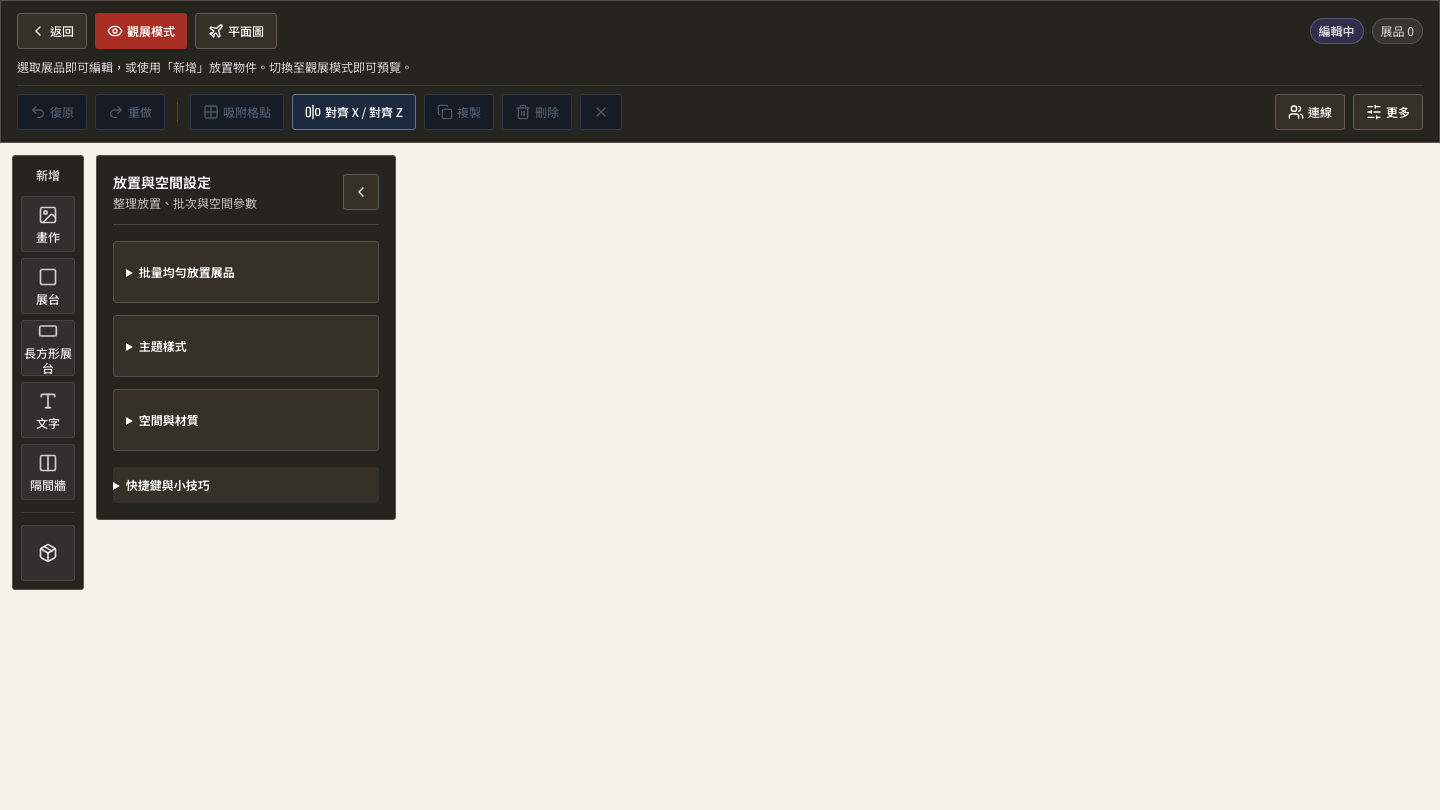
Scenario: EditUI AI builder › cancels an autonomous builder run without reporting a failure
The image size is (1440, 810).
Click the button "更多" at (1388, 112), box [1353,94,1423,130]
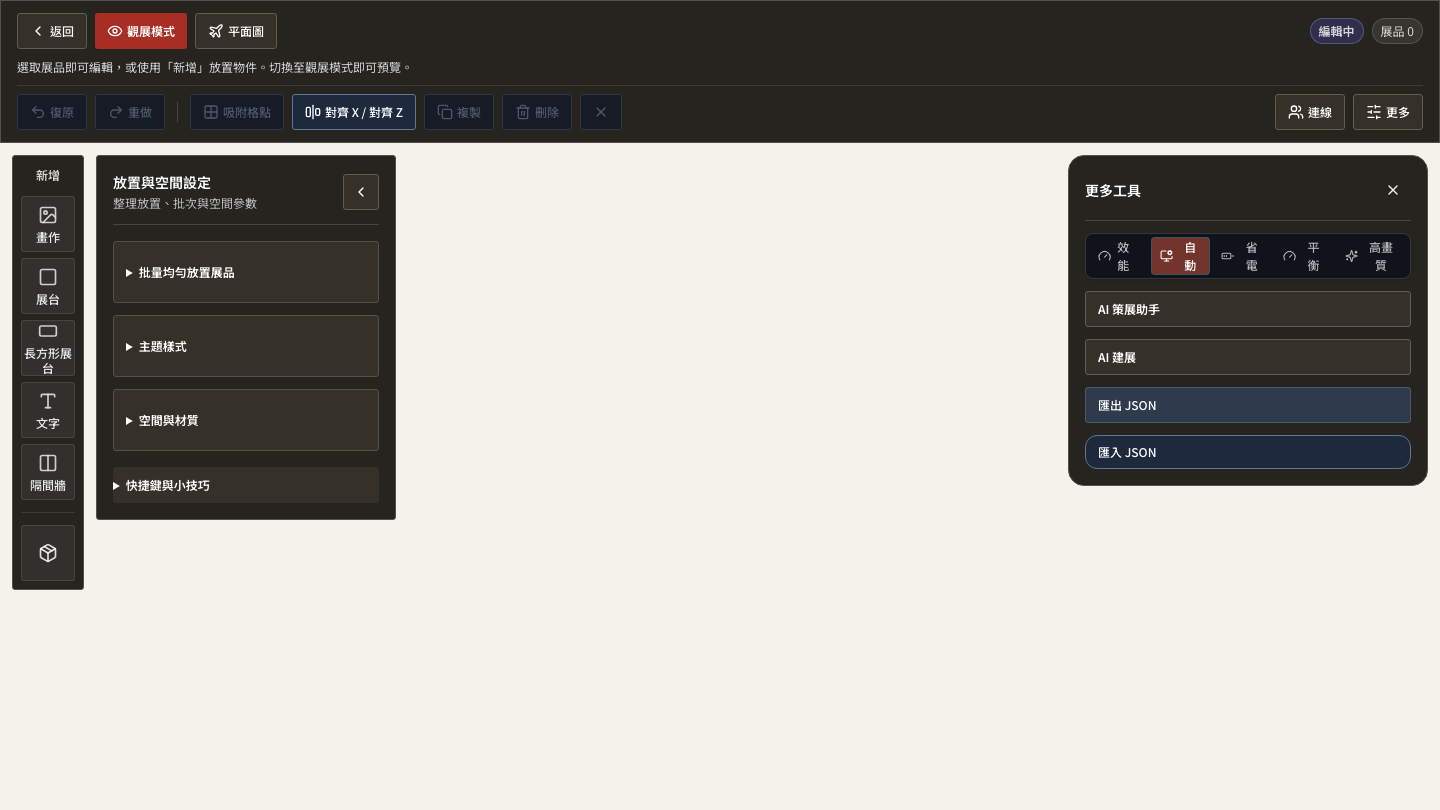
Click the button "AI 建展" at (1117, 356), box [1085,339,1411,375]
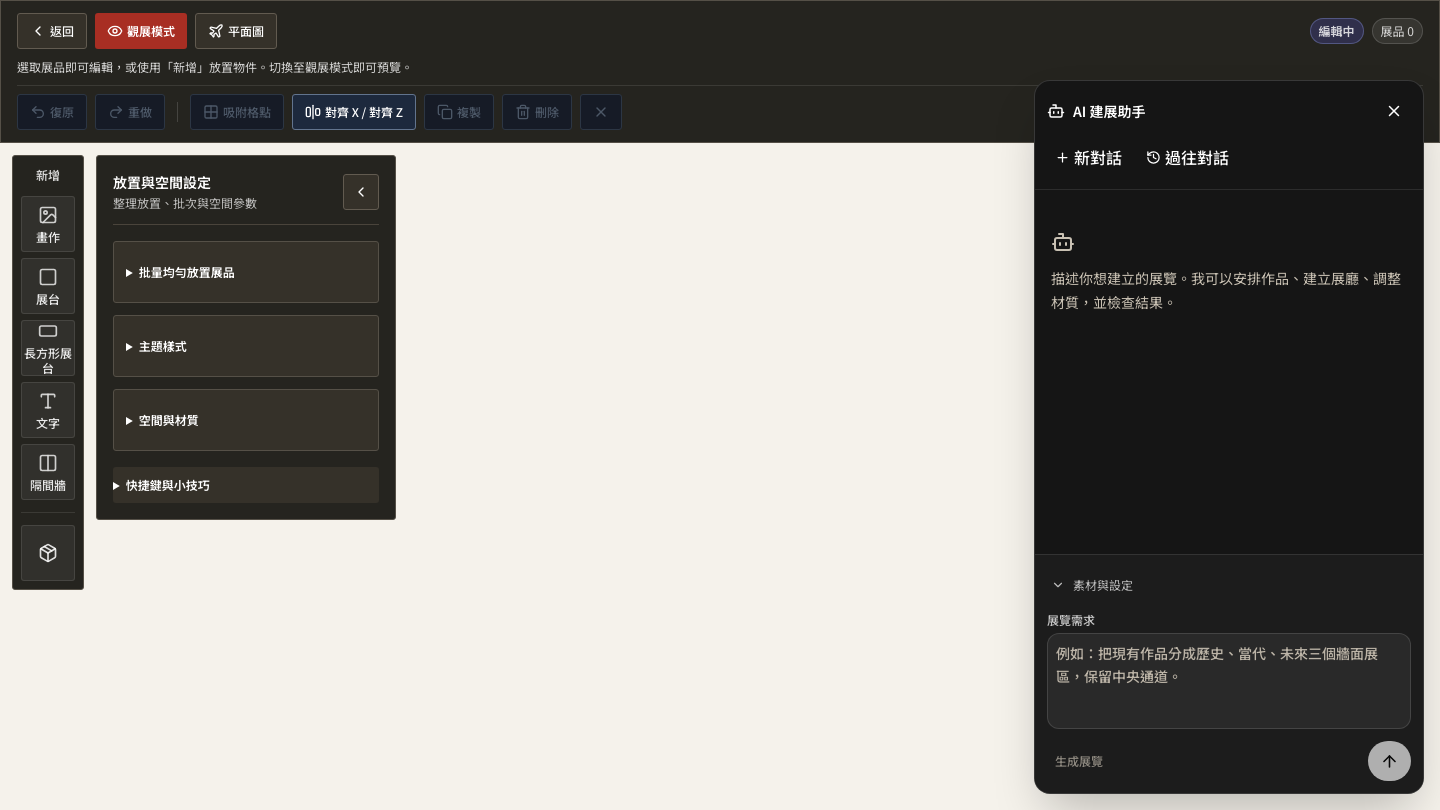
Type "建立可取消的展覽" into the text box labelled "展覽需求" at (1229, 681), box [1047,633,1411,729]
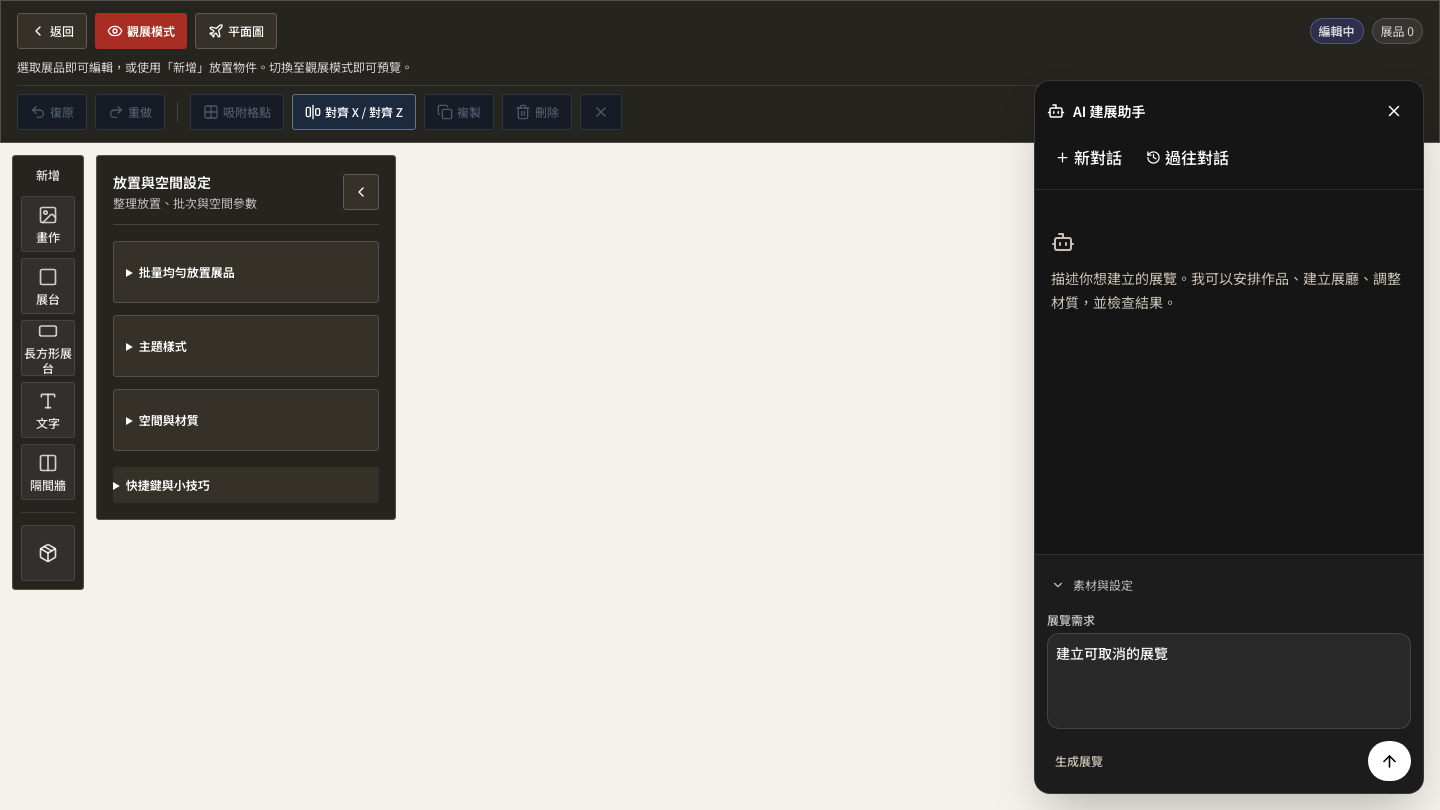
Click the button named "傳送訊息" at (1390, 761), box [1368,741,1411,781]
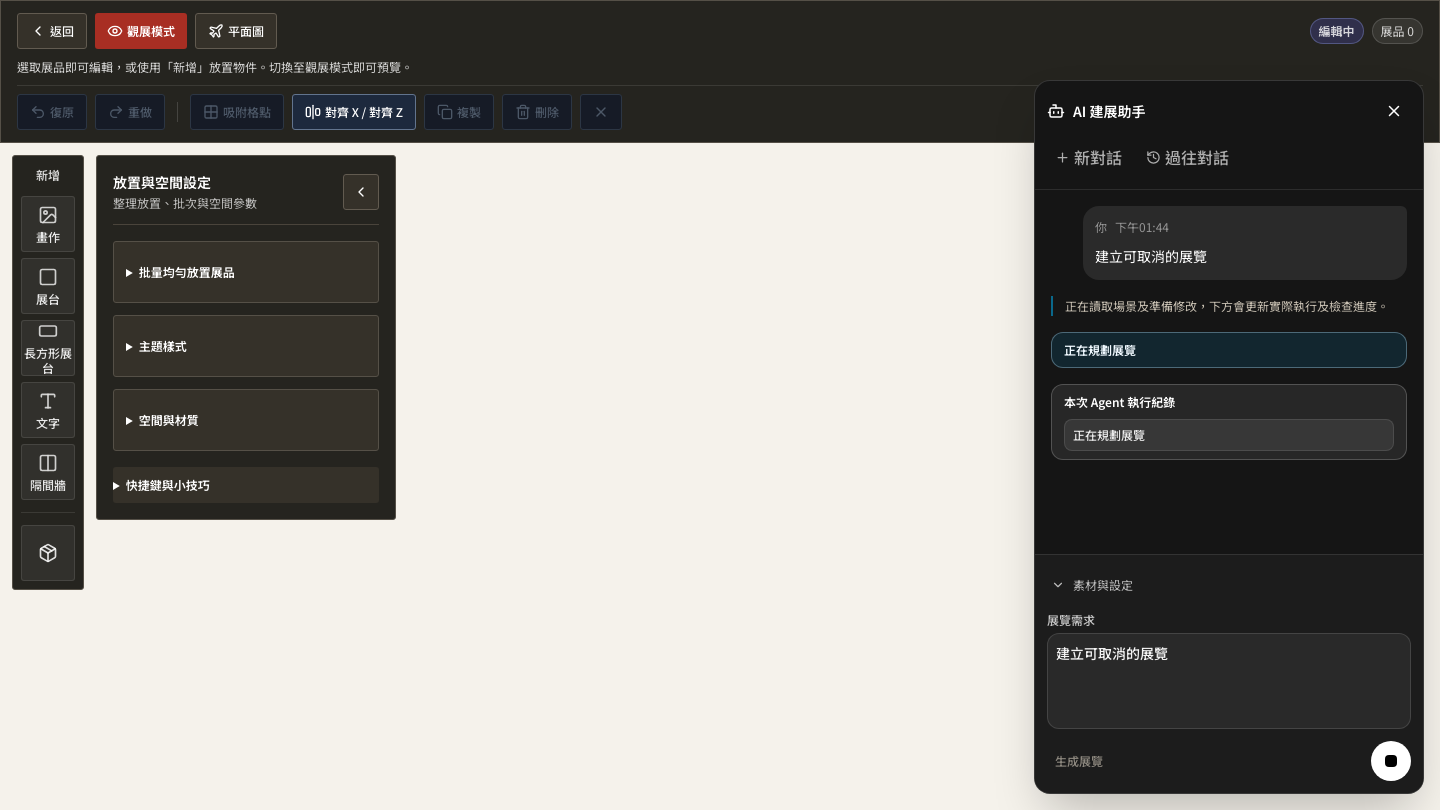
Click the button named "取消 Agent" at (1391, 761), box [1371,741,1411,781]
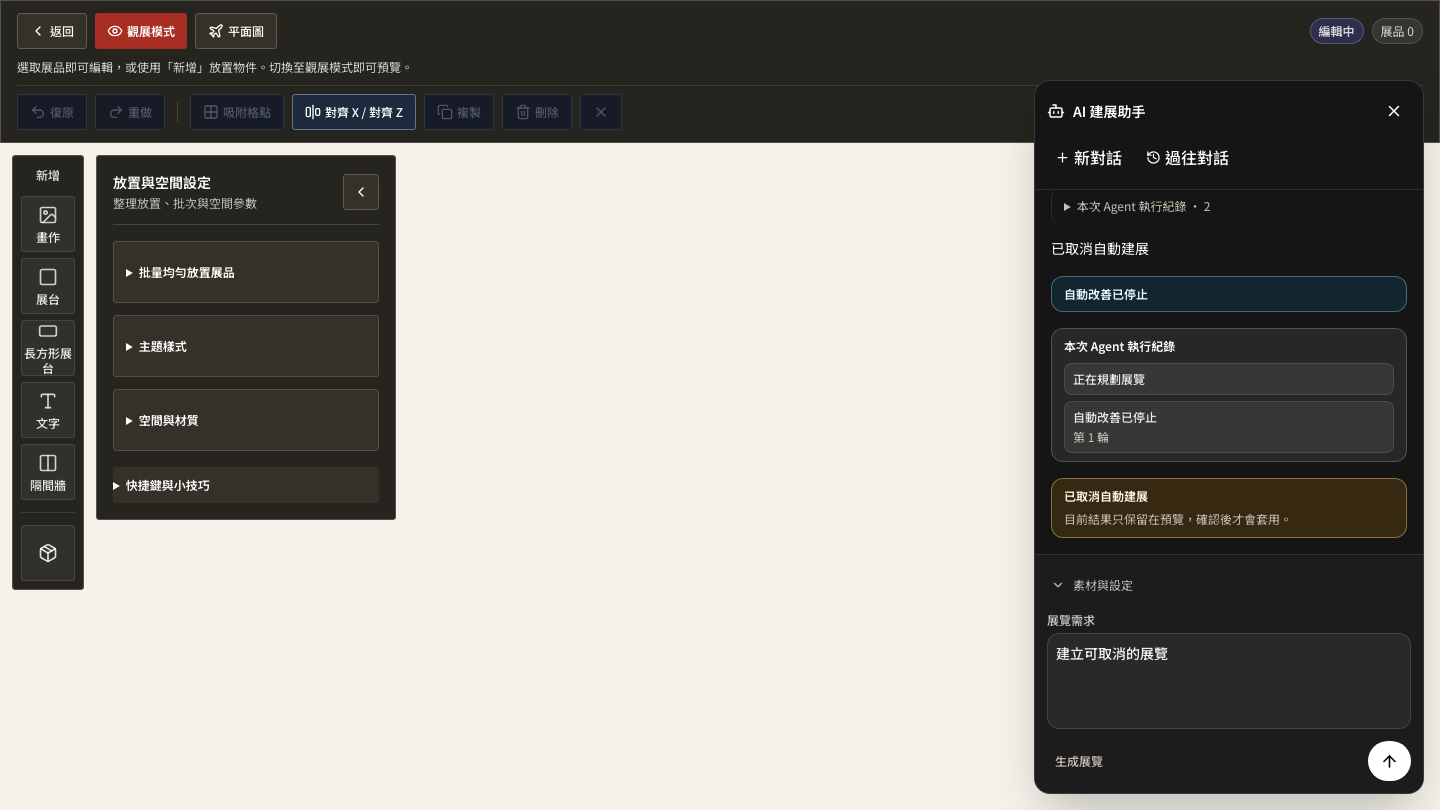
Result: the 1st text "已取消自動建展" is shown at [1051,238,1149,258]
